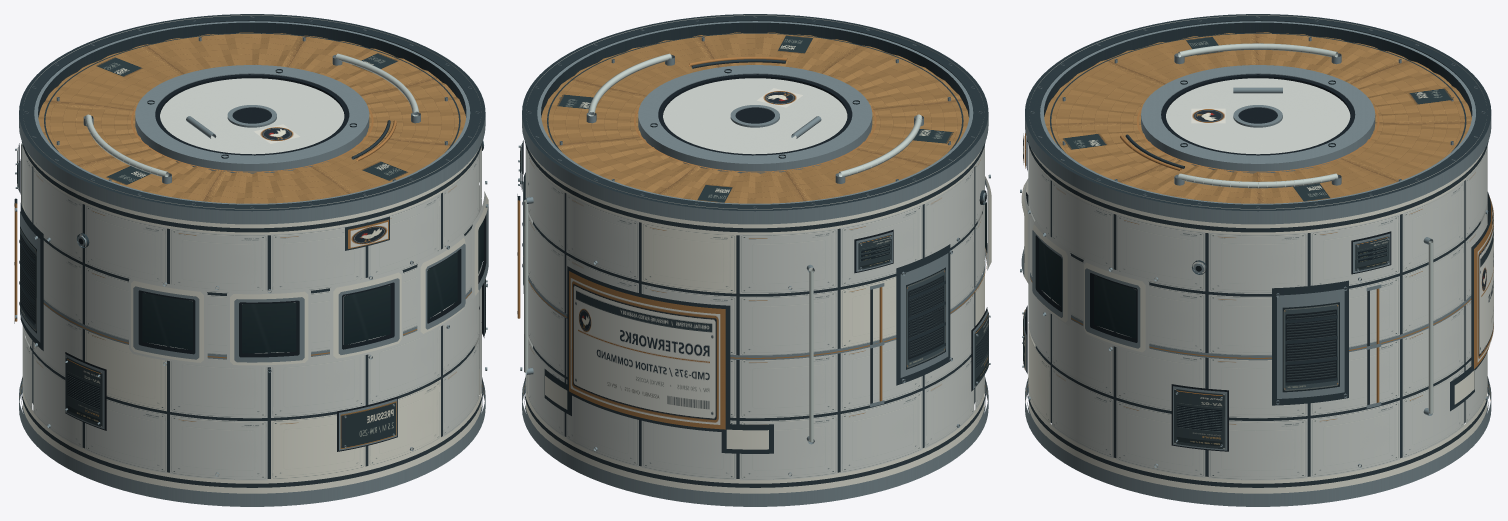
File: RW_CMD_375.obj
3 views of the same model, side by side, from view 1: azimuth 30°, elevation 25°; view 2: azimuth 150°, elevation 25°; view 3: azimuth 270°, elevation 25° (orthographic).
Parts seen in each view (by area): view 1: cladding, steel, hubblanket, graphite, white, ceramic, cladding_white, glass, black, detail, bronze, rail (+2 smaller); view 2: cladding, hubblanket, graphite, steel, cmdlabel, white, ceramic, cladding_white, bronze, detail, rail, display (+2 smaller); view 3: cladding, steel, hubblanket, graphite, white, ceramic, detail, display, black, glass, rail, bronze (+3 smaller).
Part boxes in pixels (<box>): cladding: <box>22,145,481,480</box>; steel: <box>14,16,488,506</box>; hubblanket: <box>38,32,465,203</box>; graphite: <box>14,14,485,487</box>; white: <box>23,15,488,493</box>; ceramic: <box>129,78,485,367</box>; cladding_white: <box>22,200,440,479</box>; glass: <box>142,220,483,353</box>; black: <box>19,74,486,451</box>; detail: <box>17,52,485,448</box>; bronze: <box>14,105,484,398</box>; rail: <box>21,53,419,212</box>; cladding: <box>525,145,984,480</box>; hubblanket: <box>541,32,968,203</box>; graphite: <box>517,14,988,487</box>; steel: <box>517,16,990,506</box>; cmdlabel: <box>570,278,720,424</box>; white: <box>526,15,991,493</box>; ceramic: <box>663,78,988,270</box>; cladding_white: <box>641,222,984,348</box>; bronze: <box>517,56,987,429</box>; detail: <box>520,35,988,387</box>; rail: <box>524,53,922,442</box>; display: <box>906,267,945,369</box>; cladding: <box>1028,145,1487,480</box>; steel: <box>1020,16,1491,506</box>; hubblanket: <box>1044,32,1471,203</box>; graphite: <box>1025,14,1491,487</box>; white: <box>1021,15,1487,493</box>; ceramic: <box>1024,78,1350,355</box>; detail: <box>1023,36,1453,449</box>; display: <box>1282,302,1339,392</box>; black: <box>1024,74,1391,451</box>; glass: <box>1027,196,1136,338</box>; rail: <box>1178,43,1433,413</box>; bronze: <box>1024,105,1492,402</box>.
Bounding box in the file's own units: 3.76 × 2.58 × 3.73.
Materials: 15 (15 with a texture image).
